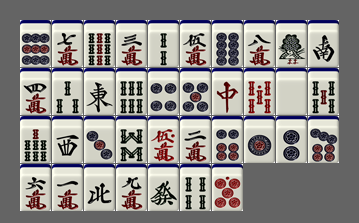0m: (148, 116, 179, 163)
0p: (212, 164, 243, 211)
0s: (244, 68, 275, 115)
1m: (52, 164, 83, 211)
1p: (244, 116, 275, 163)
1s: (276, 20, 307, 67)
1z: (84, 68, 115, 115)
2m: (180, 116, 211, 163)
2p: (276, 116, 307, 163)
2s: (148, 20, 179, 67)
2z: (308, 20, 339, 67)
3m: (116, 20, 147, 67)
3p: (84, 116, 115, 163)
3s: (52, 68, 83, 115)
3z: (52, 116, 83, 163)
4m: (20, 68, 51, 115)
4p: (148, 68, 179, 115)
4s: (180, 164, 211, 211)
4z: (84, 164, 115, 211)
5m: (180, 20, 211, 67)
5p: (180, 68, 211, 115)
5s: (308, 68, 339, 115)
5z: (276, 68, 307, 115)
6m: (20, 164, 51, 211)
6p: (212, 116, 243, 163)
6s: (116, 68, 147, 115)
6z: (148, 164, 179, 211)
7m: (52, 20, 83, 67)
7p: (308, 116, 339, 163)
7s: (20, 116, 51, 163)
7z: (212, 68, 243, 115)
8m: (244, 20, 275, 67)
8p: (212, 20, 243, 67)
8s: (116, 116, 147, 163)
9m: (116, 164, 147, 211)
9p: (20, 20, 51, 67)
9s: (84, 20, 115, 67)
